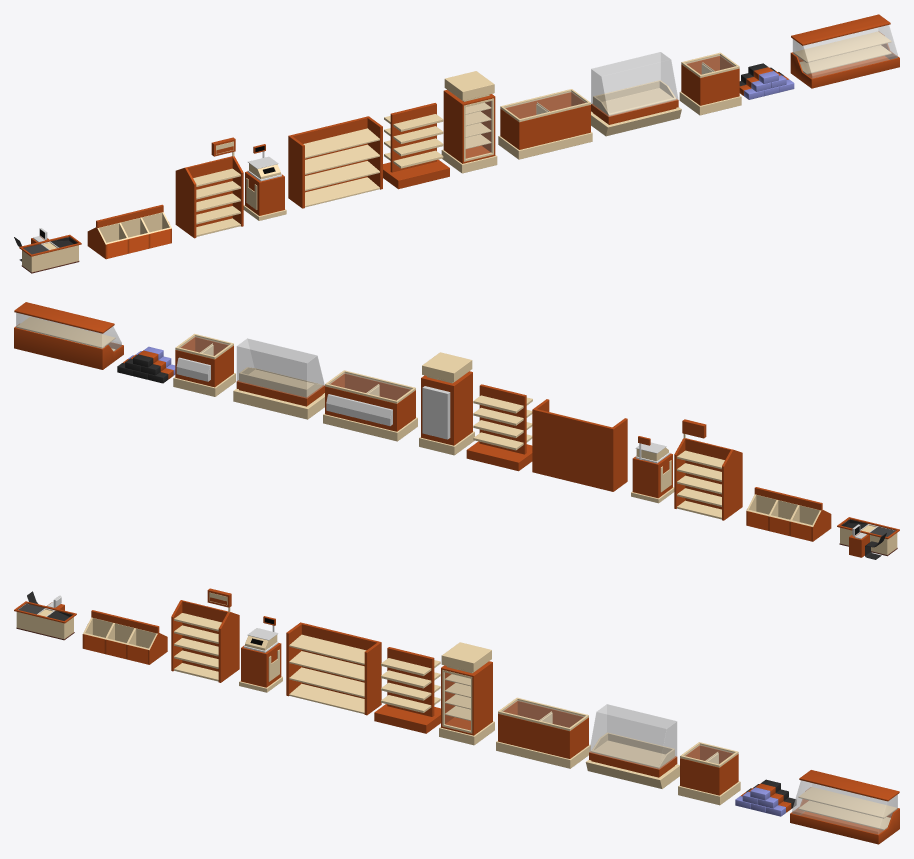
File: lowpolyshelves.fbx
The picture shows the model from 3 angles, top to bottom: view 1: azimuth 30°, elevation 25°; view 2: azimuth 150°, elevation 25°; view 3: azimuth 330°, elevation 25°; orthographic projection.
Visible parts, largest first — view 1: Cube.017_38, Cube.034_21, Cube.027_28, Cube.050_0, Cube.016_39, Cube.007_51, Cube.005_53, Cube.018_37, Cube.052_2, Cube.008_47, Cube.020_35, Cube.036_18 (+17 smaller); view 2: Cube.016_39, Cube.034_21, Cube.007_51, Cube.005_53, Cube.018_37, Cube.027_28, Cube.049_3, Cube.008_47, Cube.019_36, Cube.020_35, Cube.050_0, Cube.036_18 (+18 smaller); view 3: Cube.017_38, Cube.034_21, Cube.027_28, Cube.050_0, Cube.016_39, Cube.007_51, Cube.005_53, Cube.018_37, Cube.052_2, Cube.008_47, Cube.020_35, Cube.036_18 (+18 smaller).
Part boxes in pixels (bbox=[...]): Cube.017_38: bbox=[303, 128, 379, 207]; Cube.034_21: bbox=[591, 52, 678, 116]; Cube.027_28: bbox=[500, 92, 590, 149]; Cube.050_0: bbox=[793, 25, 897, 78]; Cube.016_39: bbox=[288, 116, 382, 208]; Cube.007_51: bbox=[175, 156, 243, 238]; Cube.005_53: bbox=[87, 212, 171, 259]; Cube.018_37: bbox=[383, 103, 449, 189]; Cube.052_2: bbox=[793, 31, 891, 74]; Cube.008_47: bbox=[193, 168, 240, 236]; Cube.020_35: bbox=[443, 90, 495, 163]; Cube.036_18: bbox=[681, 56, 739, 105]; Cube.016_39: bbox=[532, 399, 627, 491]; Cube.034_21: bbox=[237, 338, 324, 398]; Cube.007_51: bbox=[674, 438, 742, 520]; Cube.005_53: bbox=[746, 494, 831, 541]; Cube.018_37: bbox=[466, 384, 532, 471]; Cube.027_28: bbox=[325, 373, 415, 431]; Cube.049_3: bbox=[14, 325, 123, 369]; Cube.008_47: bbox=[677, 450, 724, 519]; Cube.019_36: bbox=[473, 395, 532, 450]; Cube.020_35: bbox=[421, 371, 472, 445]; Cube.050_0: bbox=[16, 312, 121, 350]; Cube.036_18: bbox=[175, 337, 233, 387]; Cube.017_38: bbox=[289, 634, 366, 713]; Cube.034_21: bbox=[589, 704, 676, 769]; Cube.027_28: bbox=[498, 701, 588, 758]; Cube.050_0: bbox=[792, 780, 897, 834]; Cube.016_39: bbox=[286, 622, 381, 715]; Cube.007_51: bbox=[171, 600, 239, 682]; Cube.005_53: bbox=[82, 617, 167, 664]; Cube.018_37: bbox=[374, 647, 440, 733]; Cube.052_2: bbox=[798, 787, 897, 830]; Cube.008_47: bbox=[174, 613, 221, 681]; Cube.020_35: bbox=[441, 661, 492, 735]; Cube.036_18: bbox=[680, 745, 738, 795].
Size of the model in its own units: 3132 by 281 by 149.
